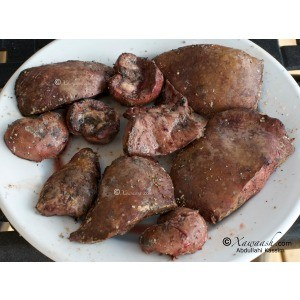liver_brain food: (195, 133, 268, 187), (35, 168, 95, 224), (68, 84, 128, 138), (164, 60, 217, 120), (157, 213, 194, 258)
